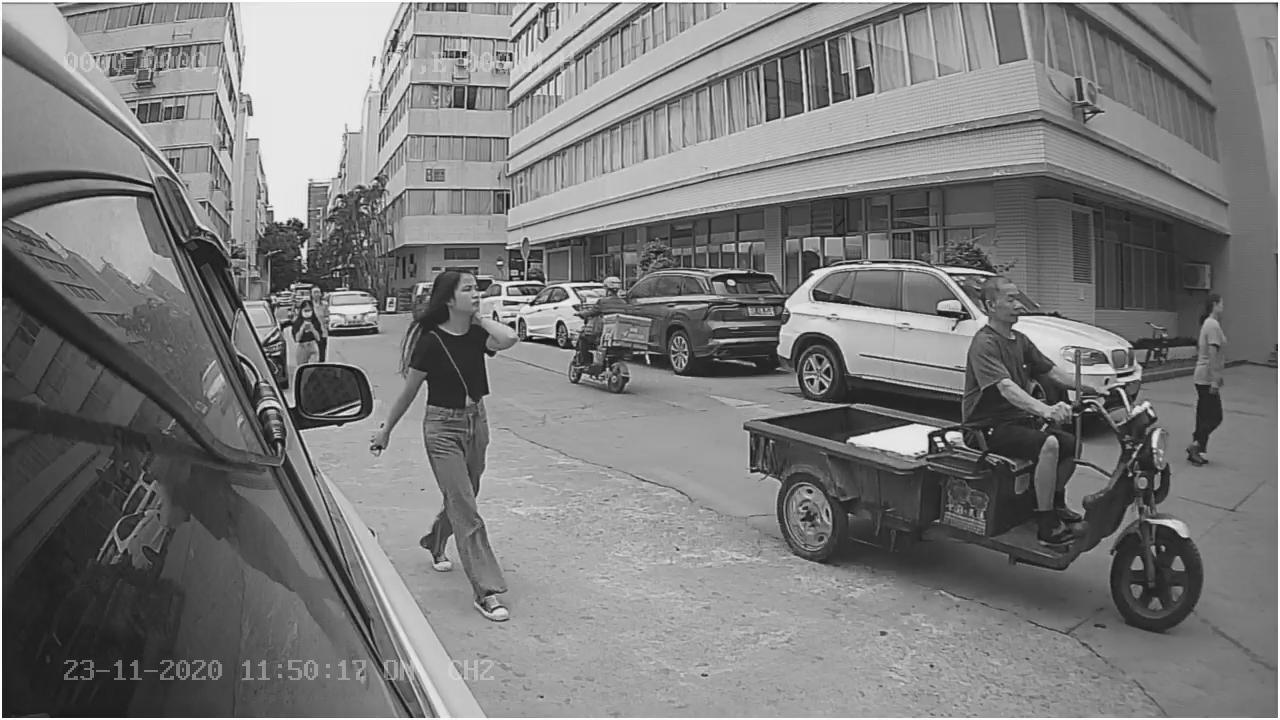person: (372, 265, 520, 479), (973, 270, 1092, 415), (1181, 287, 1240, 468)
